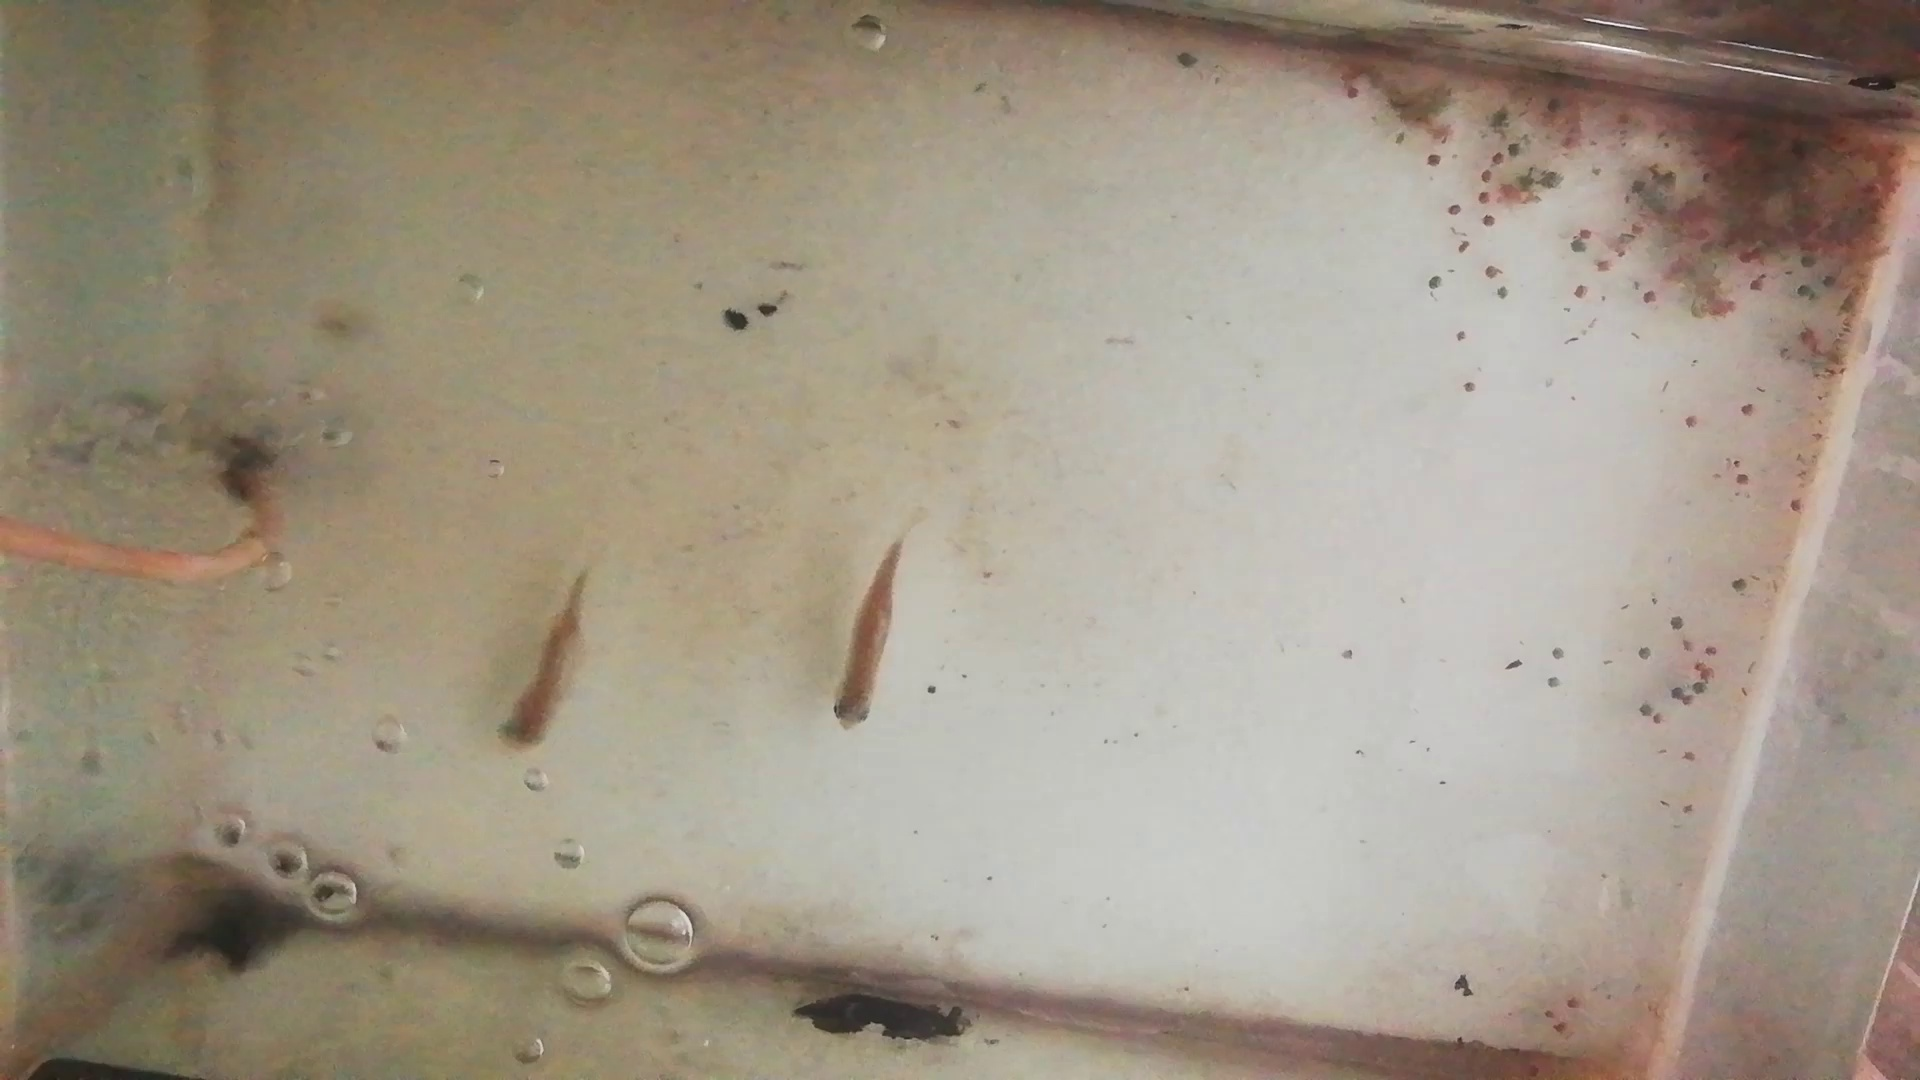fish: (495, 568, 589, 752), (829, 537, 901, 735)
